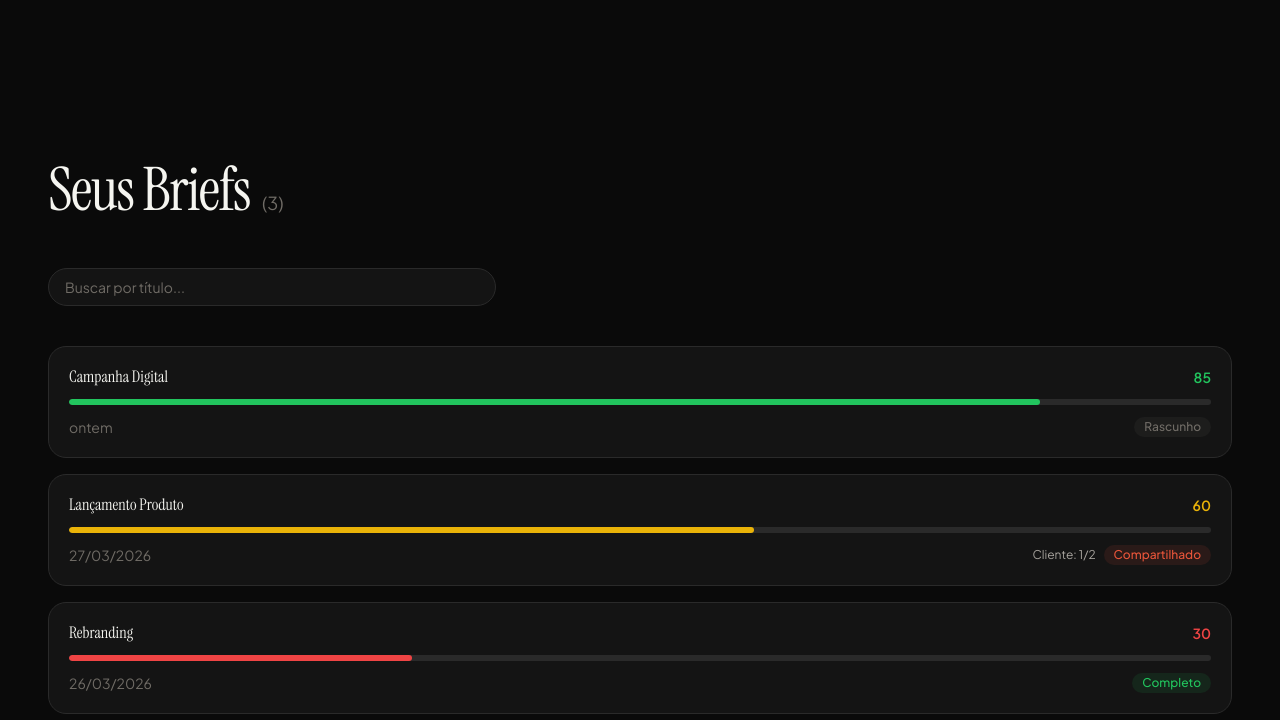
History Page › filtra por busca
Check: the heading "Campanha Digital" is shown, box x1=69 y1=367 x2=168 y2=387
# Type in search input
Type "Rebranding" into the field with placeholder "Buscar por título..." at {"x": 272, "y": 287}, box x1=48 y1=268 x2=496 y2=306
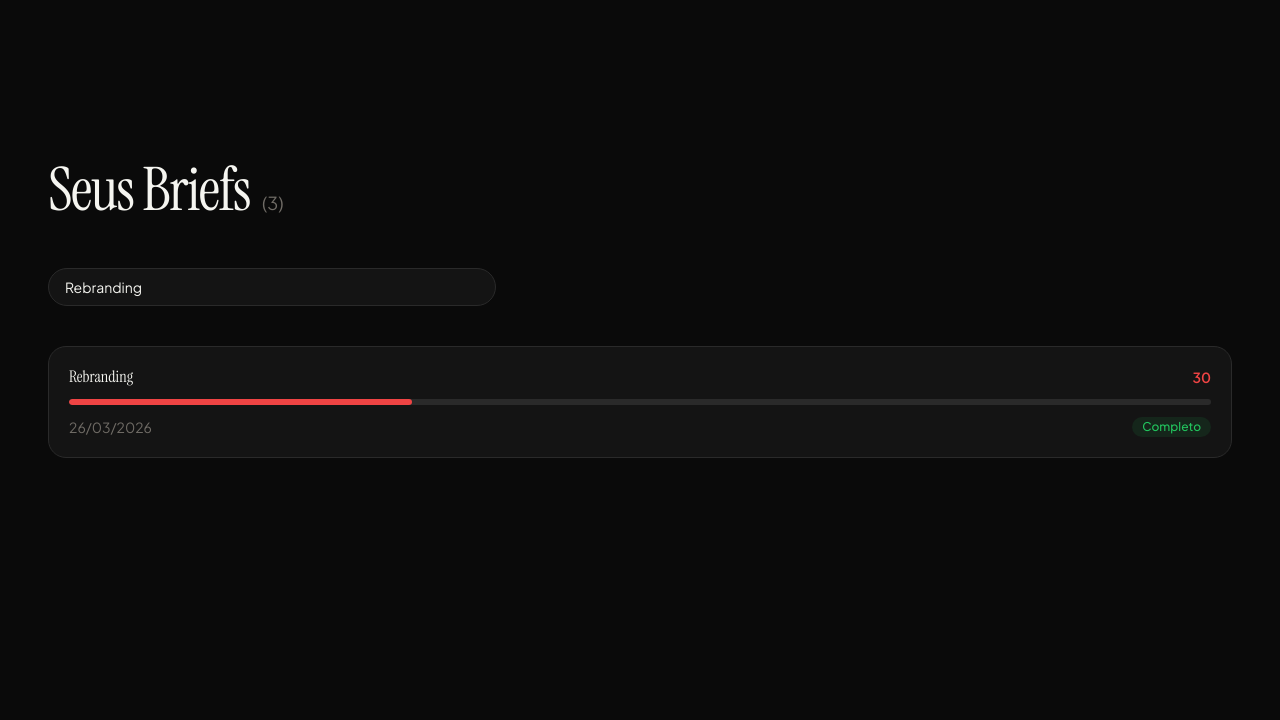
Check: the heading "Rebranding" is shown, box x1=69 y1=367 x2=133 y2=387
Check: the link "Campanha Digital" is gone
Check: the link "Lançamento Produto" is gone
